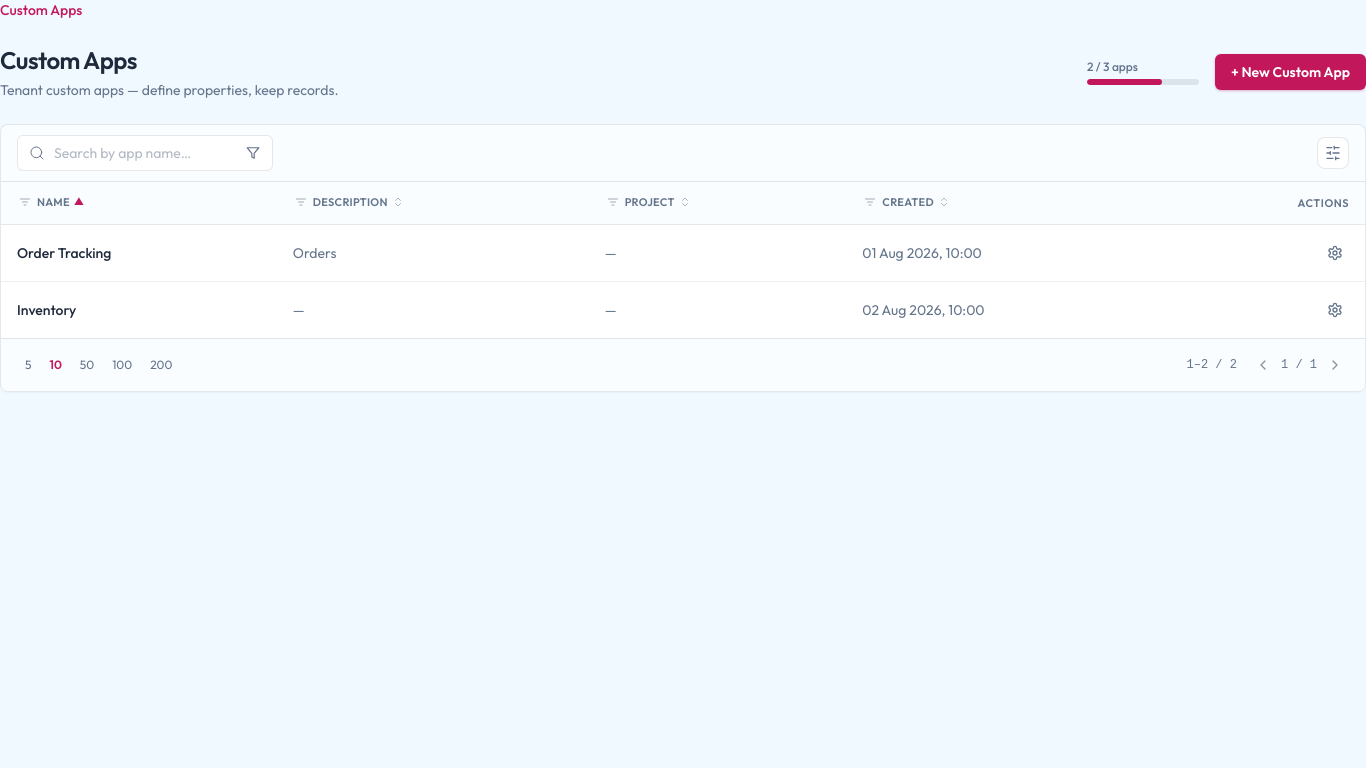
Test: CustomAppsPage › opens the create modal with the name field
Click the button "+ New Custom App" at (1290, 72), box [1215,54,1365,90]
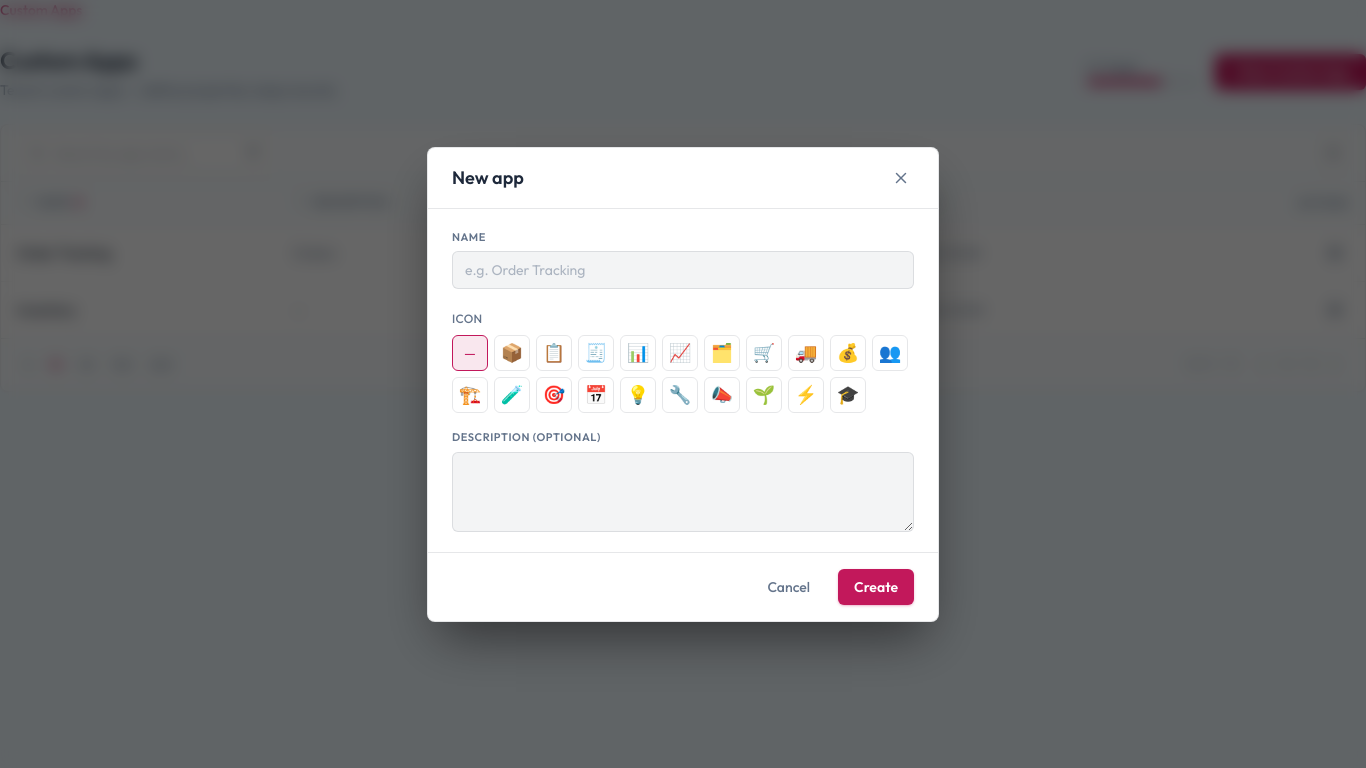
Result: the field labelled "Name" is shown at [452,251,914,289]
Result: the button "Create" is shown at [838,568,914,604]
